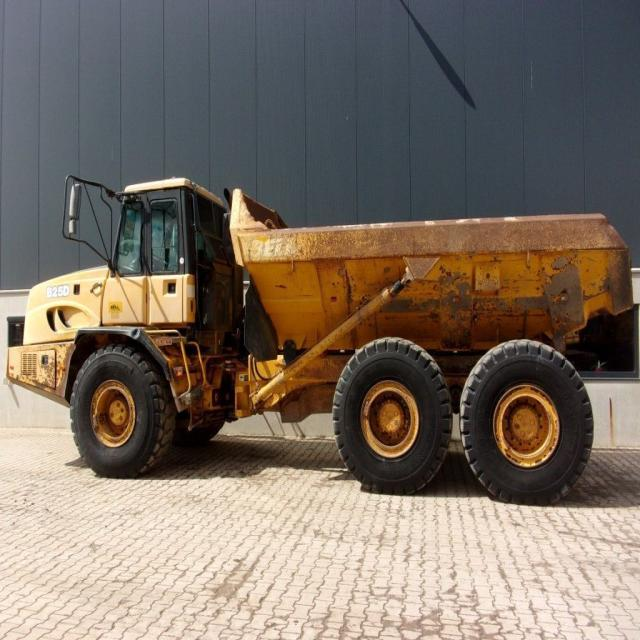dump_truck: (15, 152, 630, 532)
